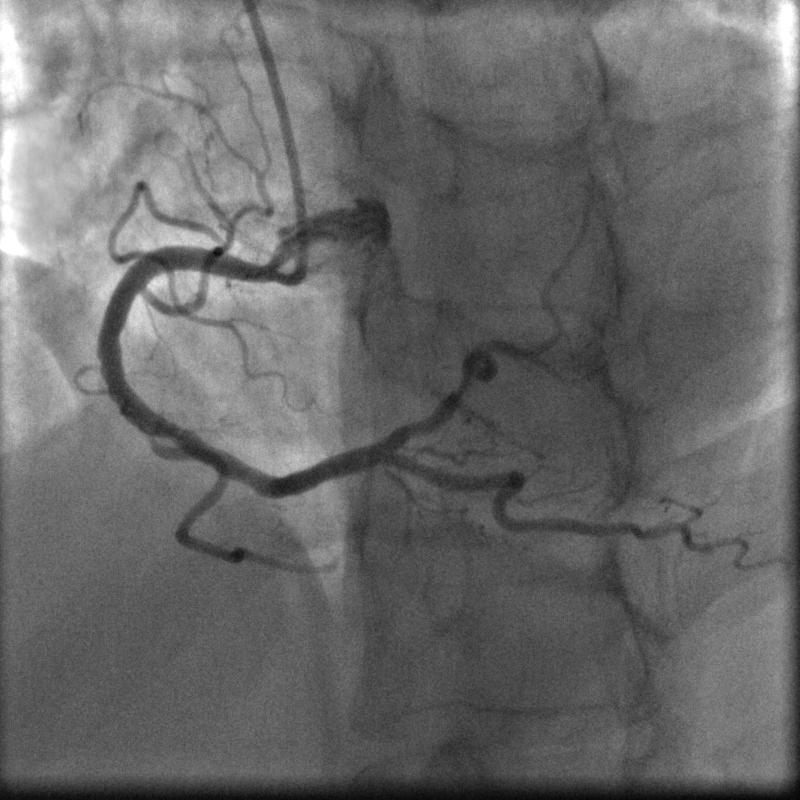Stenosis: (443, 361, 479, 405)
